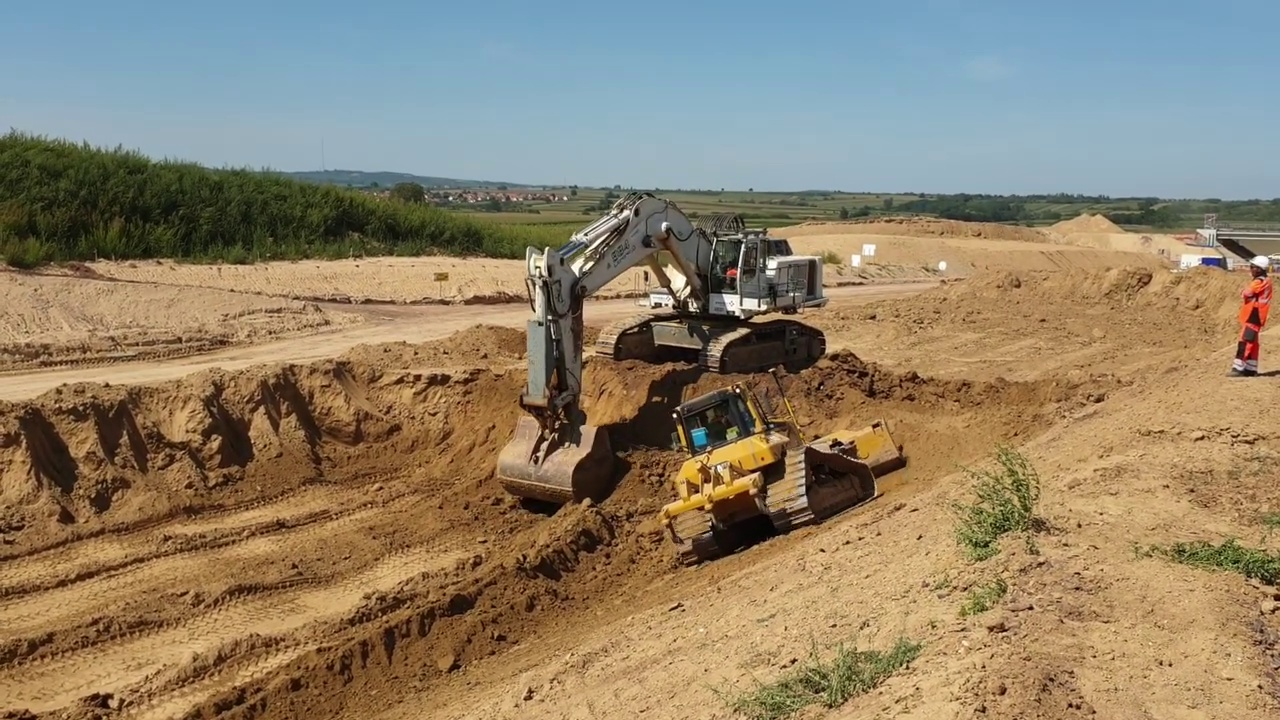bulldozer: (653, 362, 911, 565)
excavator: (492, 186, 832, 507)
worker: (1226, 247, 1277, 386)
